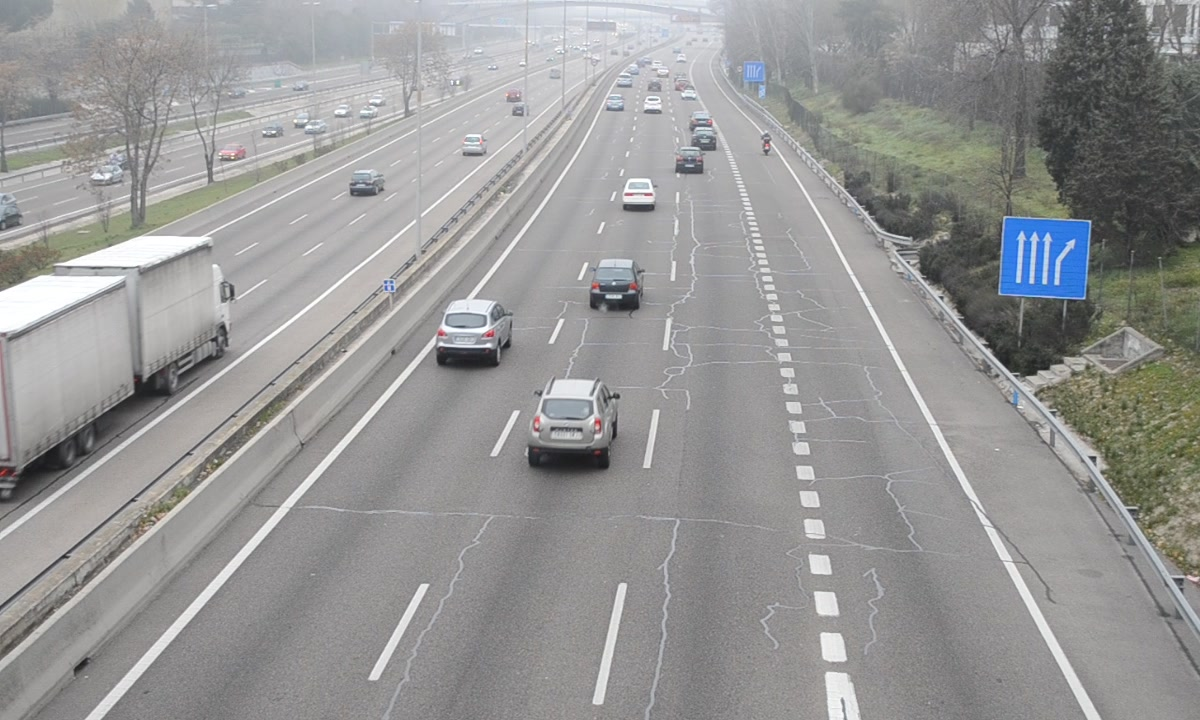car: (529, 378, 620, 451), (438, 300, 513, 355), (590, 259, 643, 308), (623, 176, 657, 208), (676, 146, 705, 175)
motorcycle: (760, 129, 774, 156)
